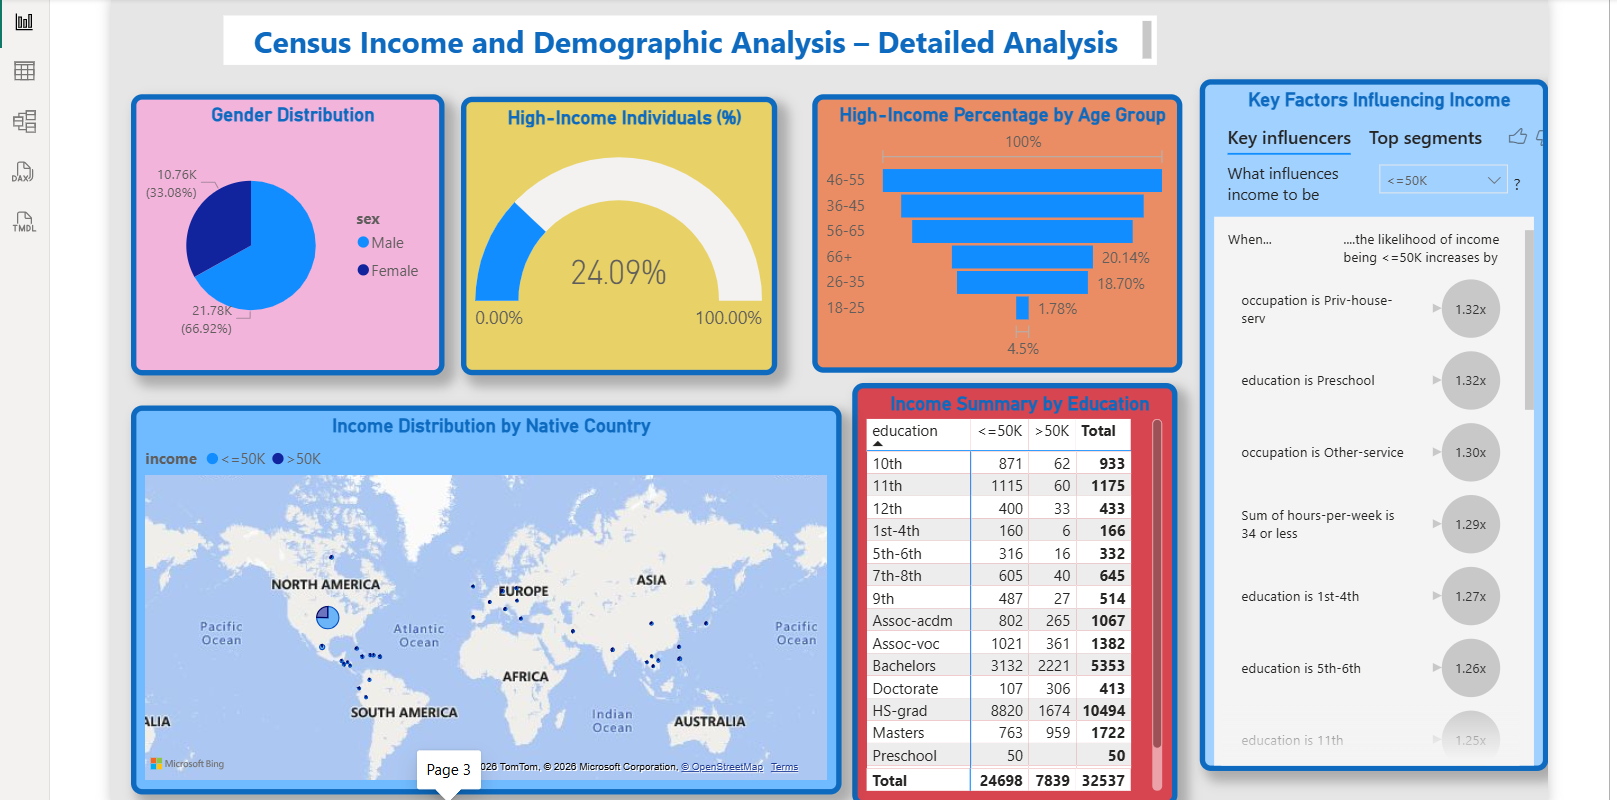

This screenshot's page, from the dashboard's own definition file:
{"tool":"powerbi","page":{"name":"Detailed Analysis","canvas":[1280,720],"ordinal":2},"visuals":[{"type":"pieChart","title":"Gender Distribution","fields":{"Category":["Census_Income_Cleaned.sex"],"Y":["CountNonNull(Census_Income_Cleaned.age)"]},"box":[17.6,85.7,279.1,250.6],"z":0},{"type":"pivotTable","title":"Income Summary by Education","fields":{"Rows":["Census_Income_Cleaned.education"],"Columns":["Census_Income_Cleaned.income"],"Values":["CountNonNull(Census_Income_Cleaned.age)"]},"box":[660.5,343,289.5,376.7],"z":1000},{"type":"gauge","title":"High-Income Individuals (%)","fields":{"Y":["Census_Income_Cleaned.High Income %"]},"box":[312.1,87.9,281.3,248.4],"z":2000},{"type":"funnel","title":"High-Income Percentage by Age Group","fields":{"Category":["Census_Income_Cleaned.age_group"],"Y":["Census_Income_Cleaned.High Income %"]},"box":[624.2,85.7,329.7,248.4],"z":3000},{"type":"map","title":"Income Distribution by Native Country","fields":{"Size":["CountNonNull(Census_Income_Cleaned.age)"],"Category":["Census_Income_Cleaned.native-country"],"Series":["Census_Income_Cleaned.income"]},"box":[17.4,362.8,632.6,346.5],"z":4000},{"type":"keyDriversVisual","title":"Key Factors Influencing Income","fields":{"Target":["Census_Income_Cleaned.income"],"ExplainBy":["Census_Income_Cleaned.education","Census_Income_Cleaned.occupation","Census_Income_Cleaned.workclass","Sum(Census_Income_Cleaned.hours-per-week)"]},"box":[969.8,72.1,310.5,616.3],"z":5000},{"type":"textbox","box":[100,15.1,831.4,44.2],"z":6000}]}

Visuals, with their boxes in screenshot pixels (x1, y1, x2, y2):
"Gender Distribution" pieChart: bbox=[158, 98, 464, 373]
"Income Summary by Education" pivotTable: bbox=[863, 380, 1180, 793]
"High-Income Individuals (%)" gauge: bbox=[481, 101, 789, 373]
"High-Income Percentage by Age Group" funnel: bbox=[823, 98, 1184, 370]
"Income Distribution by Native Country" map: bbox=[158, 402, 851, 782]
"Key Factors Influencing Income" keyDriversVisual: bbox=[1202, 83, 1542, 759]
textbox: bbox=[249, 21, 1160, 69]
